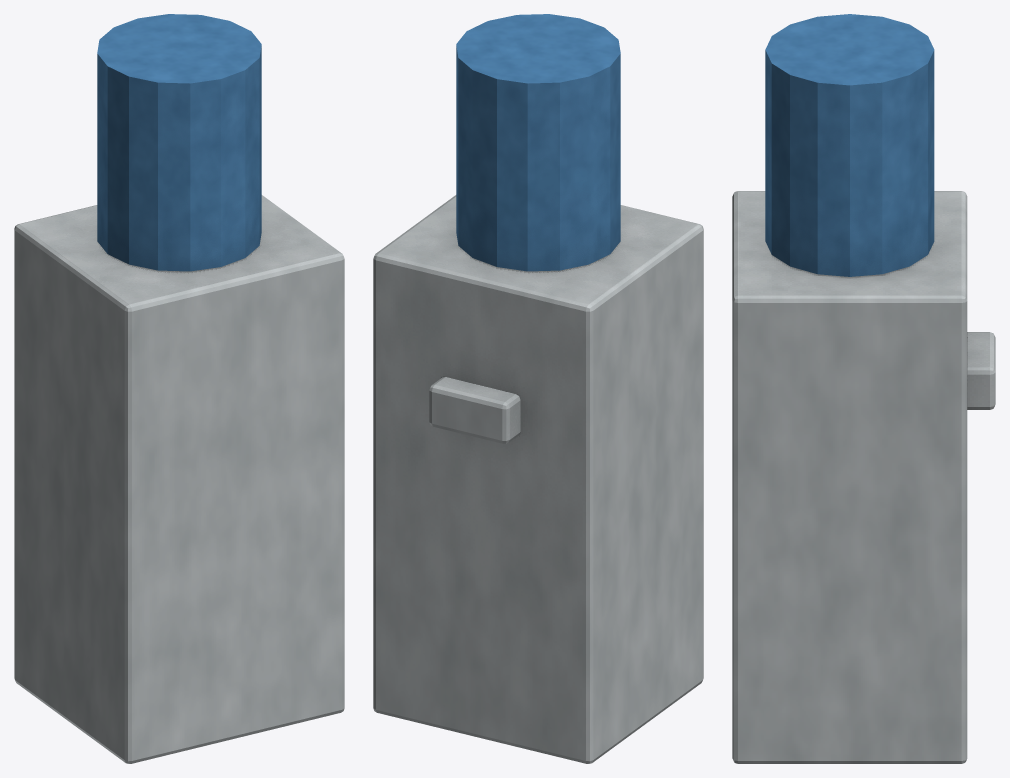
The model's file is base_dispenser.glb.
3 renders of one model, left to right at view 1: azimuth 30°, elevation 25°; view 2: azimuth 150°, elevation 25°; view 3: azimuth 270°, elevation 25°, orthographic.
Visible parts, largest first — view 1: base_dispenser; view 2: base_dispenser; view 3: base_dispenser.
Boxes of the visible parts, x1,y1,x2,y2 form: base_dispenser: (14, 14, 344, 763); base_dispenser: (373, 14, 703, 763); base_dispenser: (732, 14, 995, 763).
Size of the model in its own units: 0.55 by 1.56 by 0.56.
Materials: 2 (2 with a texture image).
